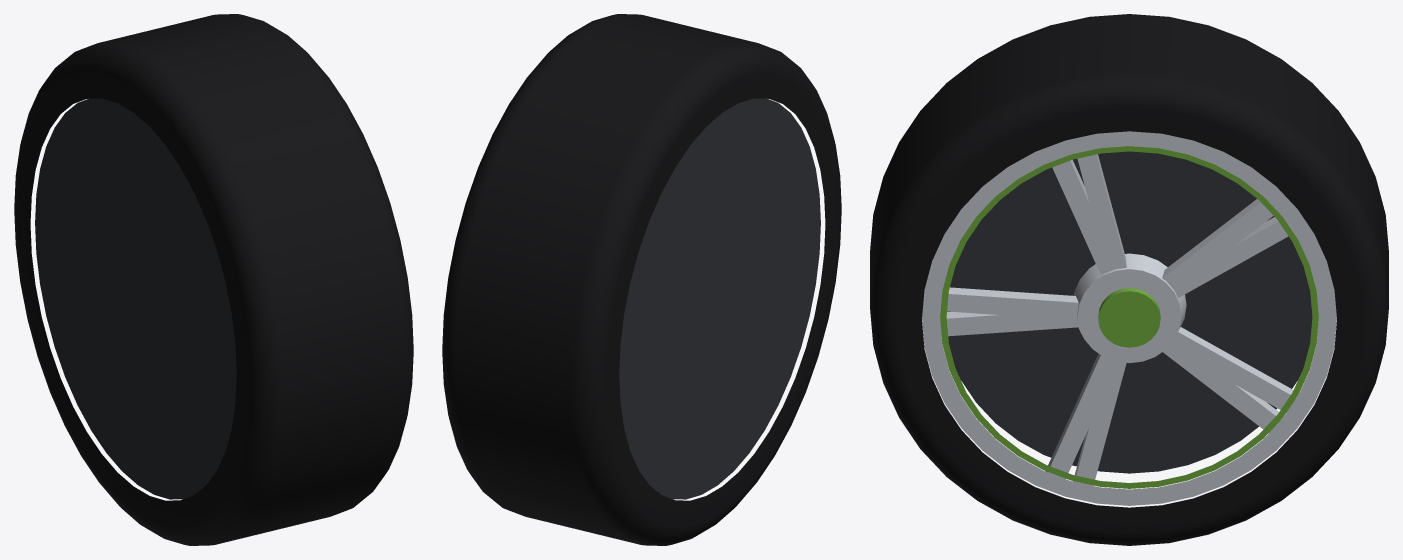
Rendered from wheel.glb.
3 renders of one model, left to right at view 1: azimuth 30°, elevation 25°; view 2: azimuth 150°, elevation 25°; view 3: azimuth 270°, elevation 25°, orthographic.
Visible parts, largest first — view 1: wheel; view 2: wheel; view 3: wheel.
Part boxes in pixels (x1,y1,x2,y2): wheel: [14, 14, 413, 545]; wheel: [442, 14, 841, 545]; wheel: [870, 14, 1388, 545].
Bounding box in the file's own units: 0.72 × 2 × 2.
1 material, 1 textured.
